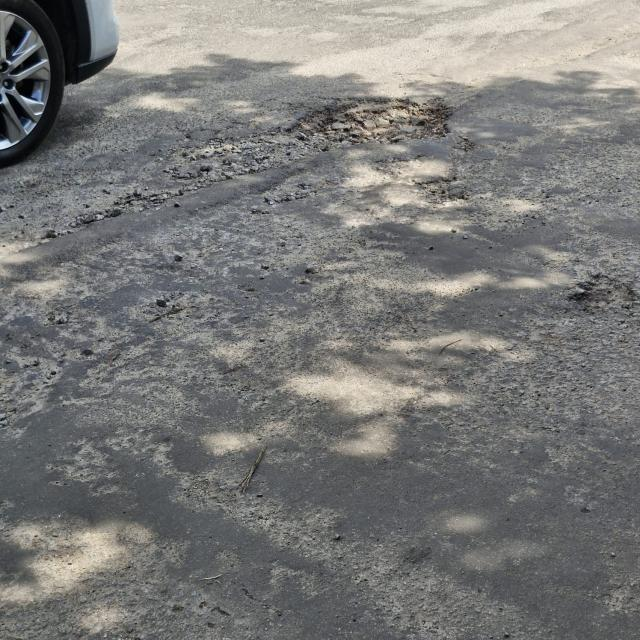pothole: (5, 298, 120, 420), (304, 87, 461, 168), (562, 267, 640, 325)
